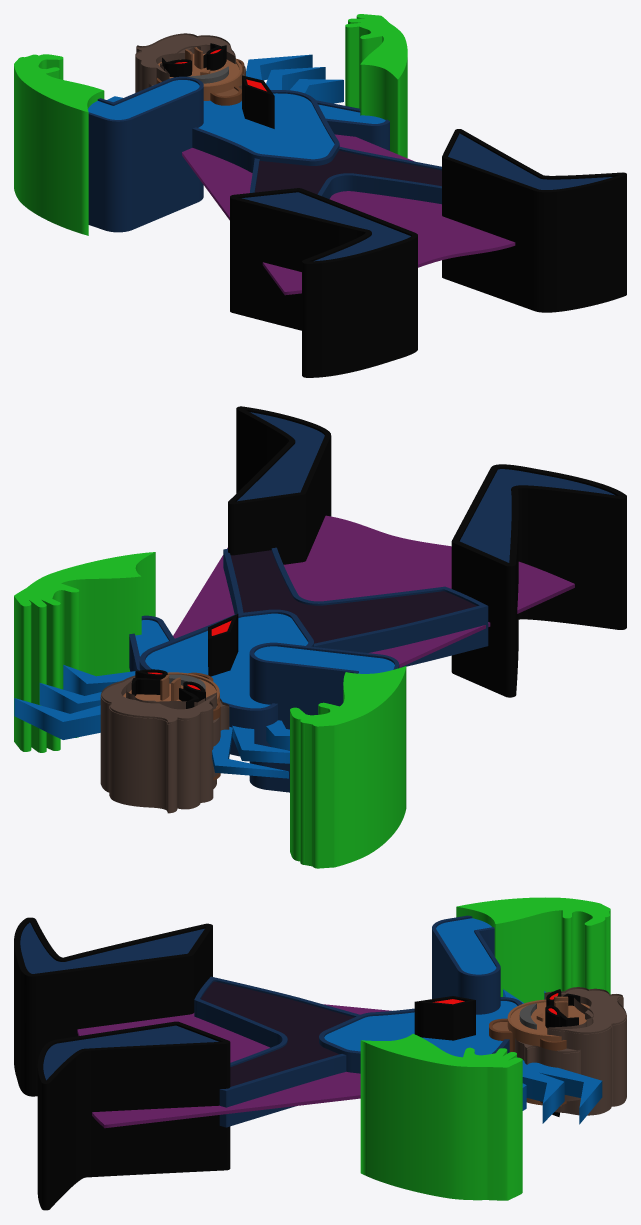
File: emoji_u1f9b9_1f3fe.glb
The picture shows the model from 3 angles, top to bottom: view 1: azimuth 30°, elevation 25°; view 2: azimuth 150°, elevation 25°; view 3: azimuth 270°, elevation 25°; orthographic projection. The views are drawn at different scales.
Parts seen in each view (by area): view 1: emoji_u1f9b9_1f3fe; view 2: emoji_u1f9b9_1f3fe; view 3: emoji_u1f9b9_1f3fe.
Boxes of the visible parts, x1,y1,x2,y2 form: emoji_u1f9b9_1f3fe: (14, 14, 626, 377); emoji_u1f9b9_1f3fe: (14, 406, 626, 868); emoji_u1f9b9_1f3fe: (14, 897, 626, 1210).
Bounding box in the file's own units: 0.0238 × 0.008 × 0.0334.
